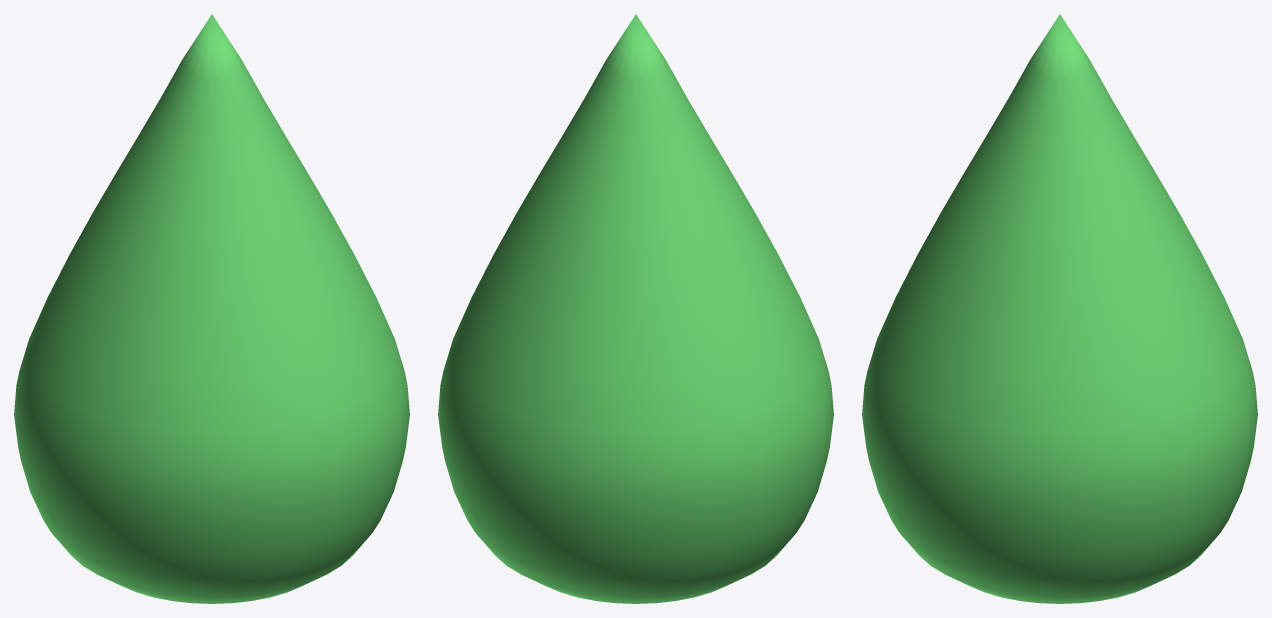
The model's file is water drop.FBX.
3 renders of one model, left to right at view 1: azimuth 30°, elevation 25°; view 2: azimuth 150°, elevation 25°; view 3: azimuth 270°, elevation 25°, orthographic.
Parts seen in each view (by area): view 1: Cylinder001; view 2: Cylinder001; view 3: Cylinder001.
Boxes of the visible parts, bbox=[...] form: Cylinder001: bbox=[14, 14, 409, 603]; Cylinder001: bbox=[438, 14, 833, 603]; Cylinder001: bbox=[862, 14, 1257, 603].
Size of the model in its own units: 57.18 by 88.9 by 57.17.
